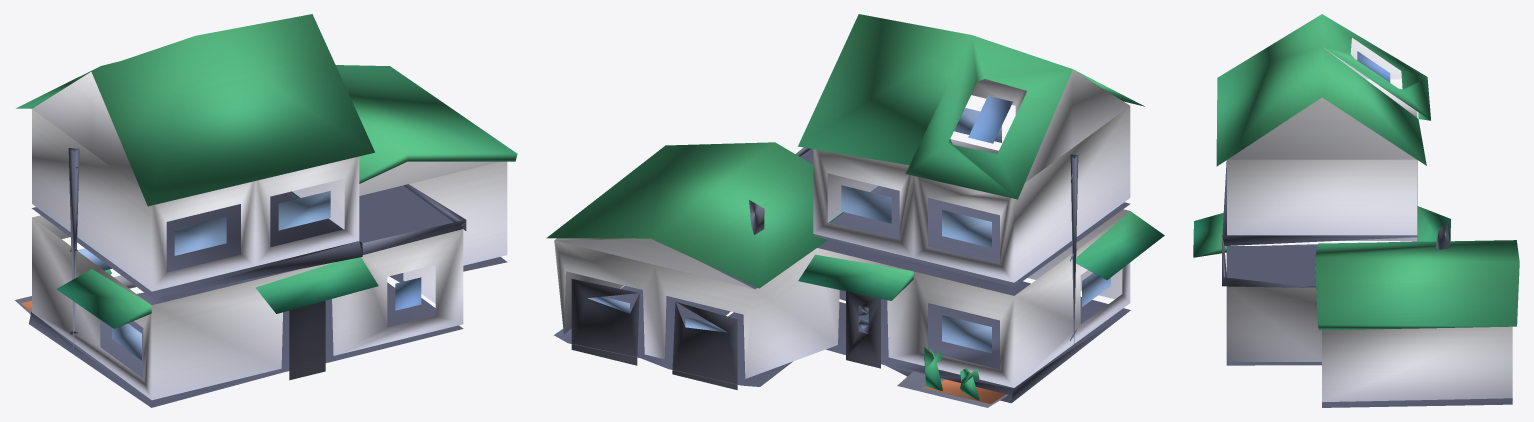
File: house-n-low.glb
3 renders of one model, left to right at view 1: azimuth 30°, elevation 25°; view 2: azimuth 150°, elevation 25°; view 3: azimuth 270°, elevation 25°, orthographic. The views are drawn at different scales.
Parts seen in each view (by area): view 1: building-type-n baked; view 2: building-type-n baked; view 3: building-type-n baked.
Boxes of the visible parts, x1=… form: building-type-n baked: x1=14, y1=14, x2=517, y2=407; building-type-n baked: x1=546, y1=14, x2=1164, y2=407; building-type-n baked: x1=1193, y1=14, x2=1519, y2=407.
Bounding box in the file's own units: 10.9 × 7 × 8.44.
Materials: 1 (1 with a texture image).
